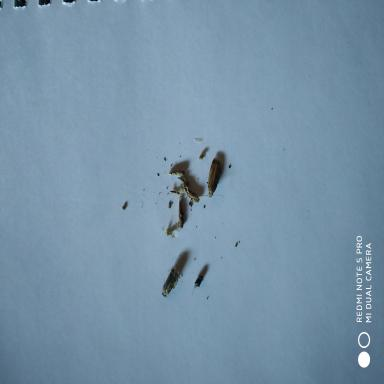pbw: (204, 156, 222, 198), (160, 267, 180, 298)
